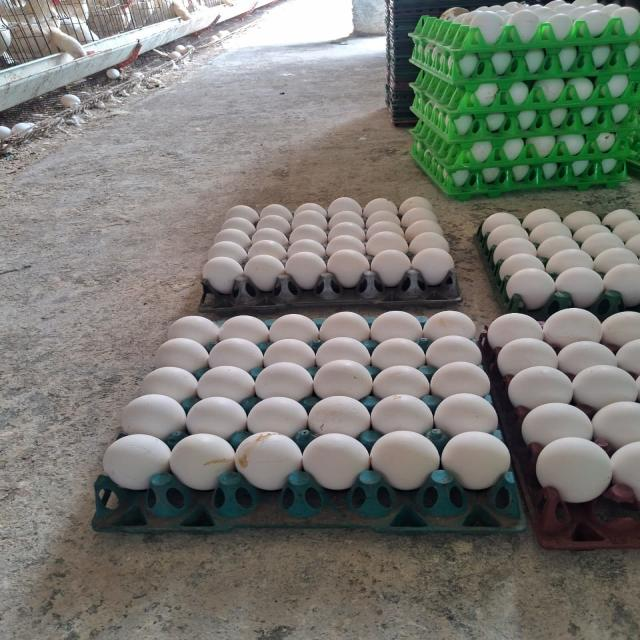egg_tray: (93, 311, 523, 532), (411, 2, 639, 198), (480, 308, 639, 548), (200, 197, 460, 312), (412, 34, 639, 141), (411, 6, 639, 108), (411, 72, 639, 163), (411, 0, 639, 88), (411, 106, 635, 195), (475, 208, 639, 318), (413, 43, 639, 106), (412, 120, 633, 183), (410, 140, 629, 200), (412, 100, 638, 158), (385, 8, 421, 123), (385, 0, 423, 74), (385, 2, 419, 84), (385, 80, 415, 125), (0, 122, 35, 142), (627, 132, 639, 175), (558, 110, 569, 122), (619, 104, 629, 116), (437, 21, 450, 30), (417, 96, 429, 104), (496, 114, 505, 122), (530, 112, 539, 120), (469, 157, 481, 162), (461, 0, 472, 5), (624, 8, 637, 12), (566, 94, 571, 99), (484, 12, 489, 17), (559, 80, 563, 85), (432, 10, 437, 14), (433, 6, 437, 10), (453, 105, 457, 108), (442, 36, 445, 40), (611, 5, 615, 8), (461, 156, 465, 159), (407, 78, 412, 80), (478, 16, 481, 19), (503, 100, 505, 102), (439, 100, 441, 102), (434, 9, 437, 10), (601, 108, 603, 109), (550, 116, 552, 117), (456, 155, 457, 157), (493, 178, 494, 179), (562, 99, 564, 99), (623, 117, 624, 117), (616, 116, 617, 116), (576, 168, 578, 168), (563, 139, 563, 139), (607, 10, 608, 10), (449, 167, 449, 167)
